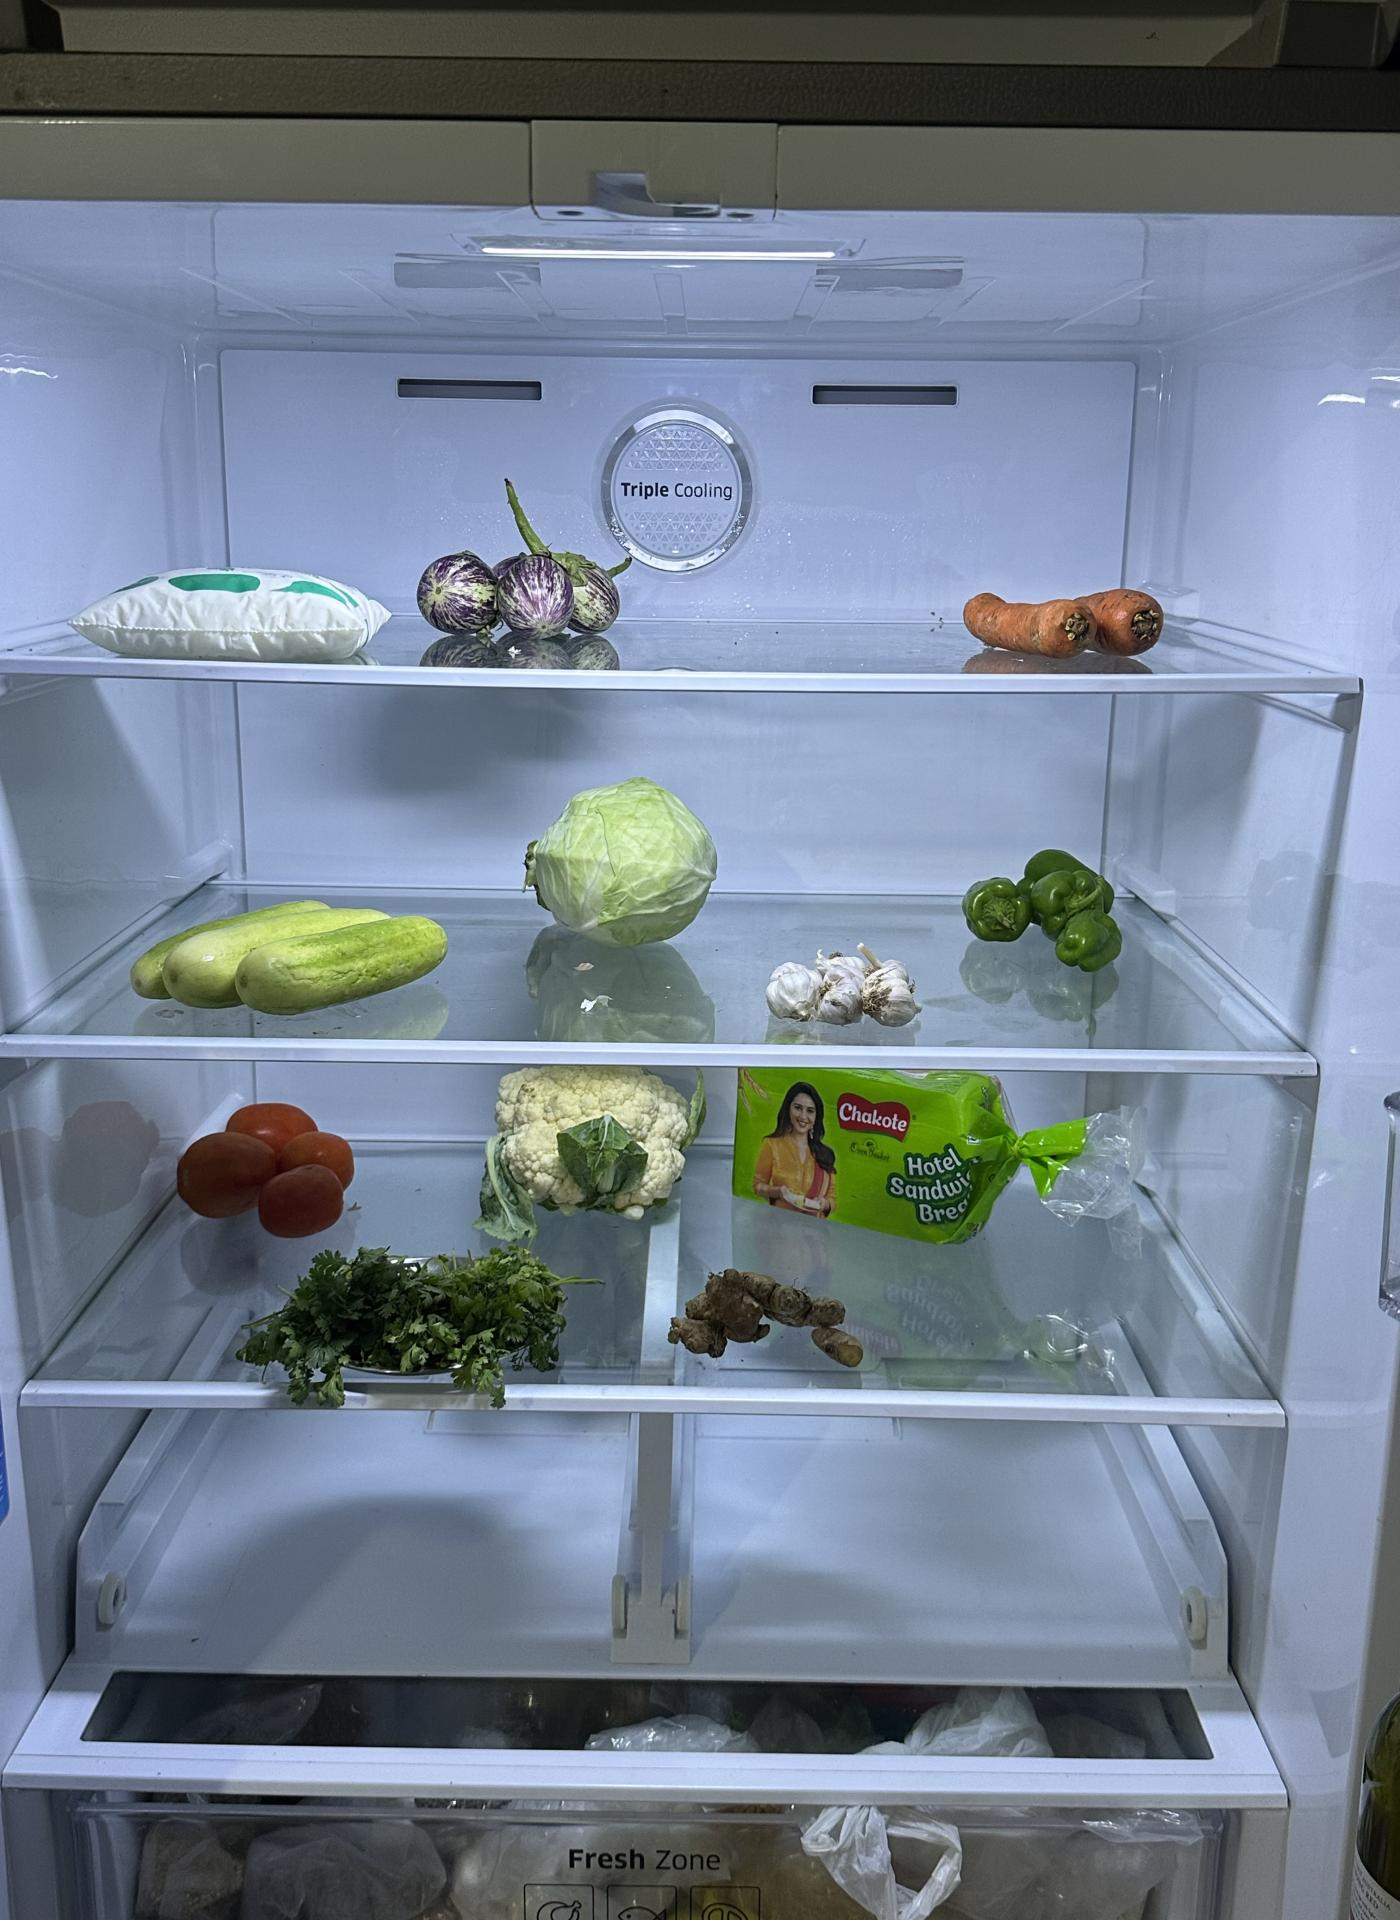bread: (734, 1060, 1024, 1236)
brinjal: (410, 531, 629, 663)
cabbage: (528, 775, 720, 947)
capsicum: (953, 839, 1118, 963)
carrots: (959, 571, 1167, 669)
cauliflower: (476, 1073, 698, 1213)
coriander: (245, 1245, 559, 1395)
cucumber: (125, 887, 449, 1012)
garlic: (769, 941, 918, 1040)
ginger: (666, 1267, 874, 1376)
milk: (67, 552, 392, 668)
tomato: (180, 1096, 361, 1236)
